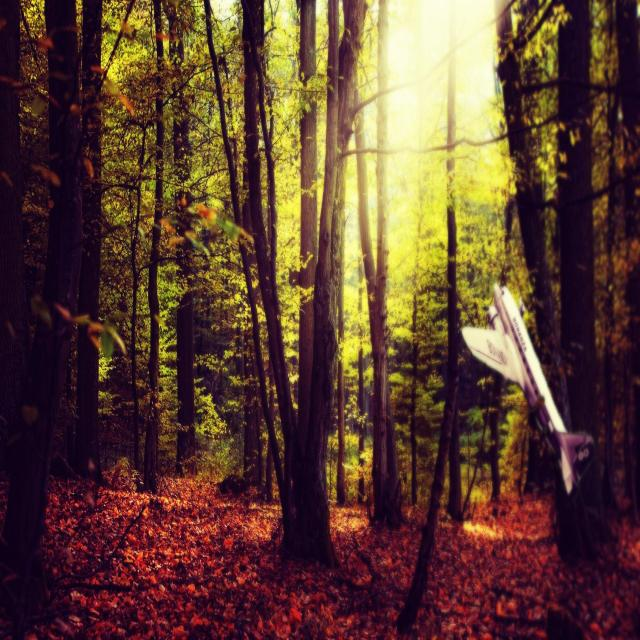airplane: (460, 282, 595, 496)
